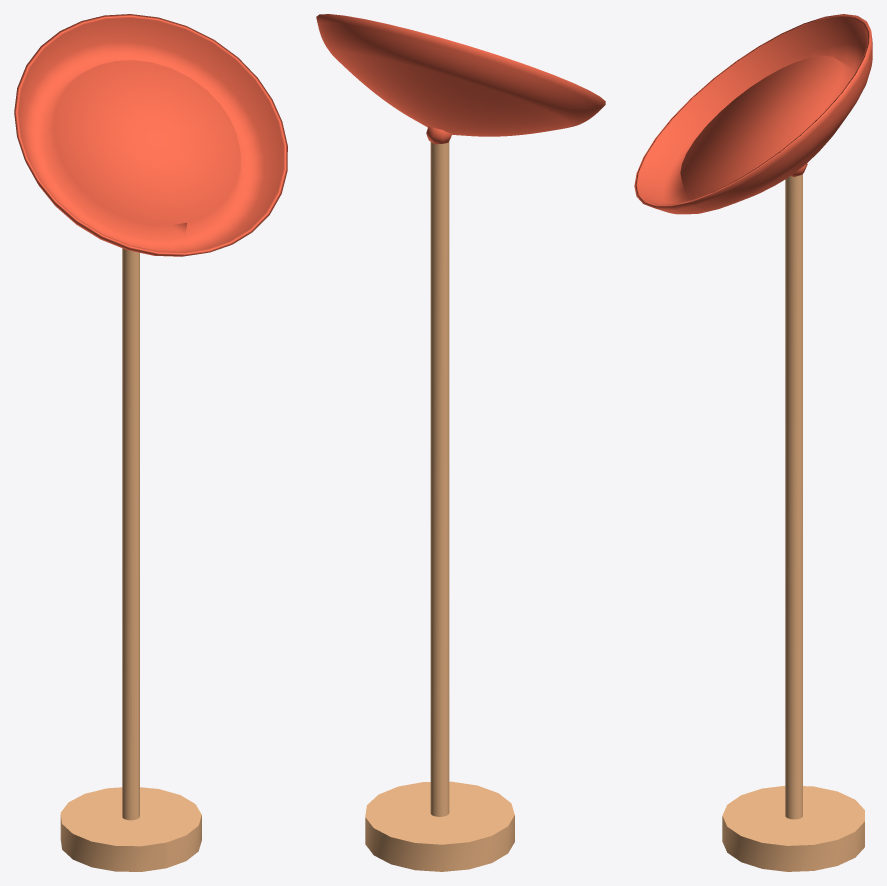
Rendered from Floor Lamps.glb.
3 views of the same model, side by side, from view 1: azimuth 30°, elevation 25°; view 2: azimuth 150°, elevation 25°; view 3: azimuth 270°, elevation 25° (orthographic). The views are drawn at different scales.
Parts seen in each view (by area): view 1: Cylindrical Lathe, Cylinder (×2); view 2: Cylinder (×2), Cylindrical Lathe; view 3: Cylindrical Lathe, Cylinder (×2).
Boxes of the visible parts, box(x1,y1,x2,y2) form: Cylindrical Lathe: box(14, 14, 287, 256); Cylinder (×2): box(60, 248, 201, 871); Cylinder (×2): box(365, 141, 514, 871); Cylindrical Lathe: box(316, 14, 605, 136); Cylindrical Lathe: box(634, 14, 872, 214); Cylinder (×2): box(722, 174, 864, 871).
Bounding box in the file's own units: 0.6044 × 1.86 × 0.4974.
